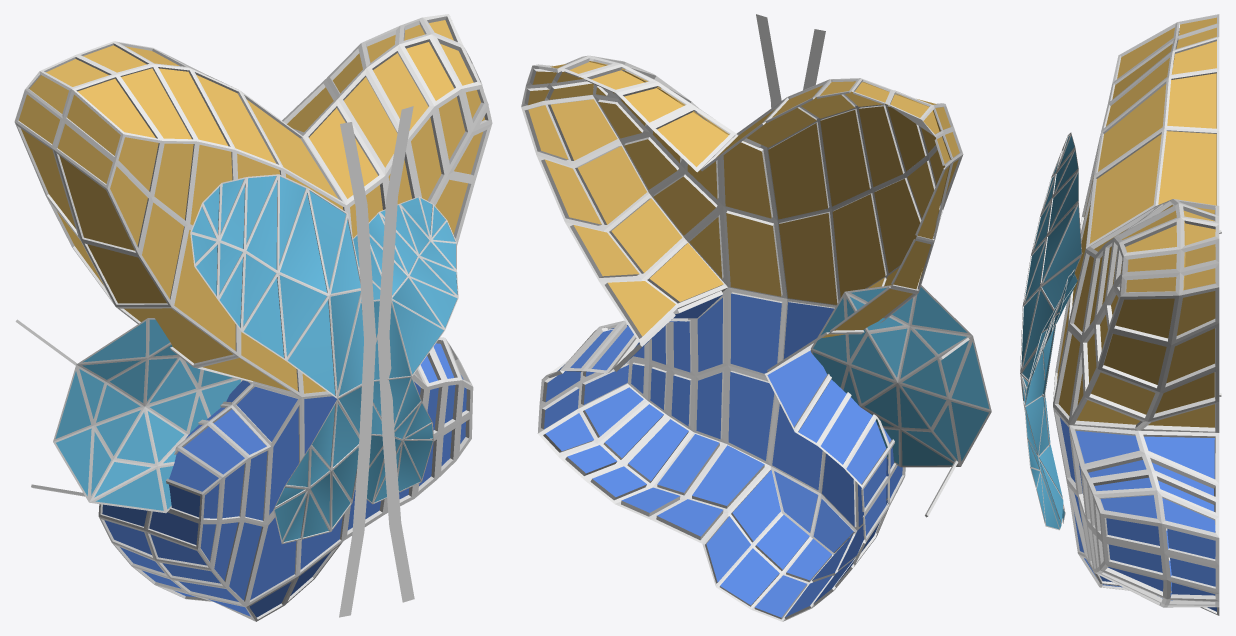
The model's file is kelebeklerblockout.glb.
3 renders of one model, left to right at view 1: azimuth 30°, elevation 25°; view 2: azimuth 150°, elevation 25°; view 3: azimuth 270°, elevation 25°, orthographic. The views are drawn at different scales.
Visible parts, largest first — view 1: E7E7E7FF, 63BFE7FF, E7BC60FF, 5889E7FF; view 2: E7BC60FF, 5889E7FF, E7E7E7FF, 63BFE7FF; view 3: E7E7E7FF, E7BC60FF, 5889E7FF, 63BFE7FF.
Part boxes in pixels (bbox=[...]): E7E7E7FF: bbox=[14, 14, 492, 621]; 63BFE7FF: bbox=[55, 176, 457, 541]; E7BC60FF: bbox=[18, 20, 485, 393]; 5889E7FF: bbox=[102, 343, 466, 617]; E7BC60FF: bbox=[528, 61, 959, 337]; 5889E7FF: bbox=[544, 293, 902, 617]; E7E7E7FF: bbox=[521, 14, 991, 621]; 63BFE7FF: bbox=[812, 287, 989, 465]; E7E7E7FF: bbox=[1020, 14, 1221, 615]; E7BC60FF: bbox=[1057, 17, 1216, 427]; 5889E7FF: bbox=[1060, 418, 1216, 611]; 63BFE7FF: bbox=[1021, 136, 1081, 528].
Bounding box in the file's own units: 9.42 × 11.47 × 3.93.
